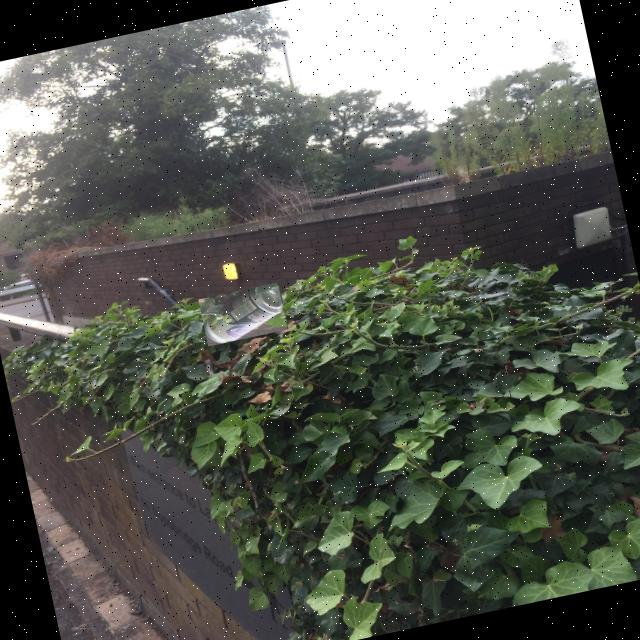Drink can: (205, 287, 283, 342)
